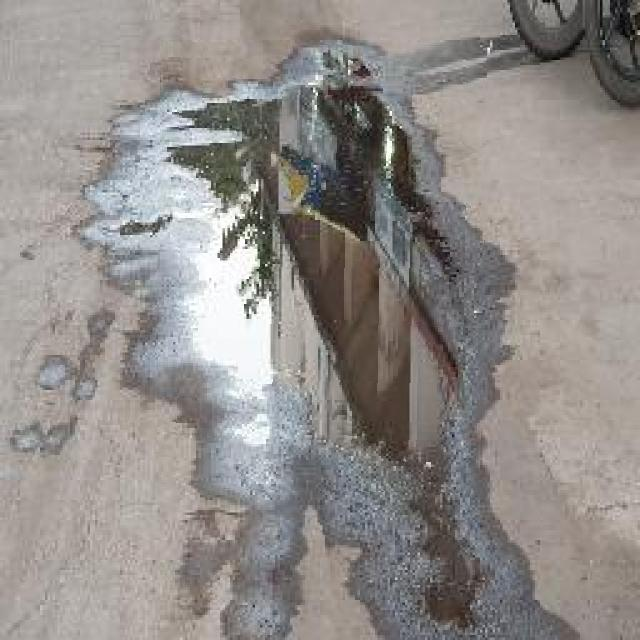puddle: (157, 44, 486, 493)
